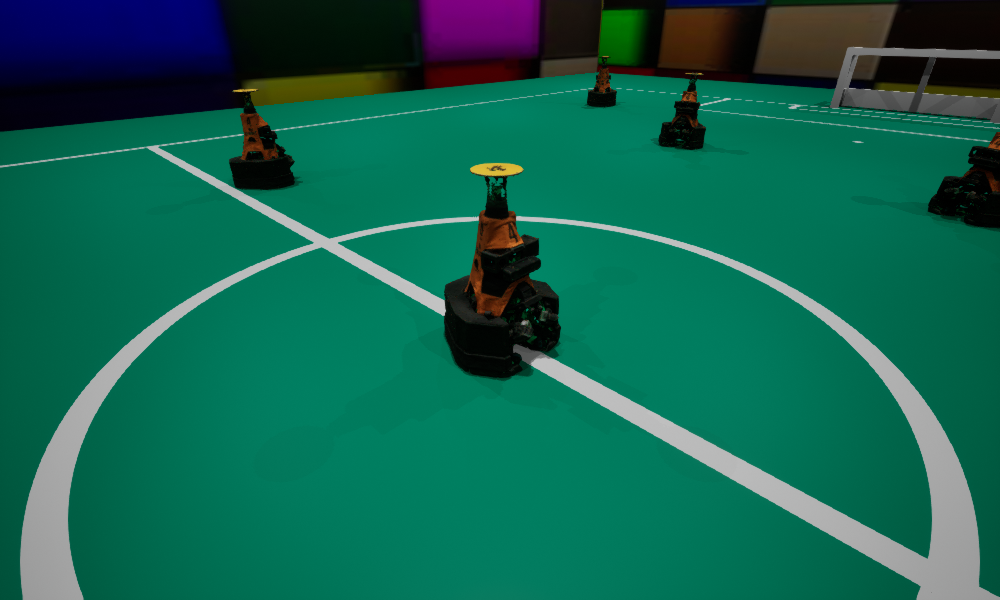0 orange robot TechUnited: (444, 163, 560, 377), (928, 132, 999, 226), (229, 89, 294, 189), (658, 73, 705, 148), (587, 56, 616, 106)
